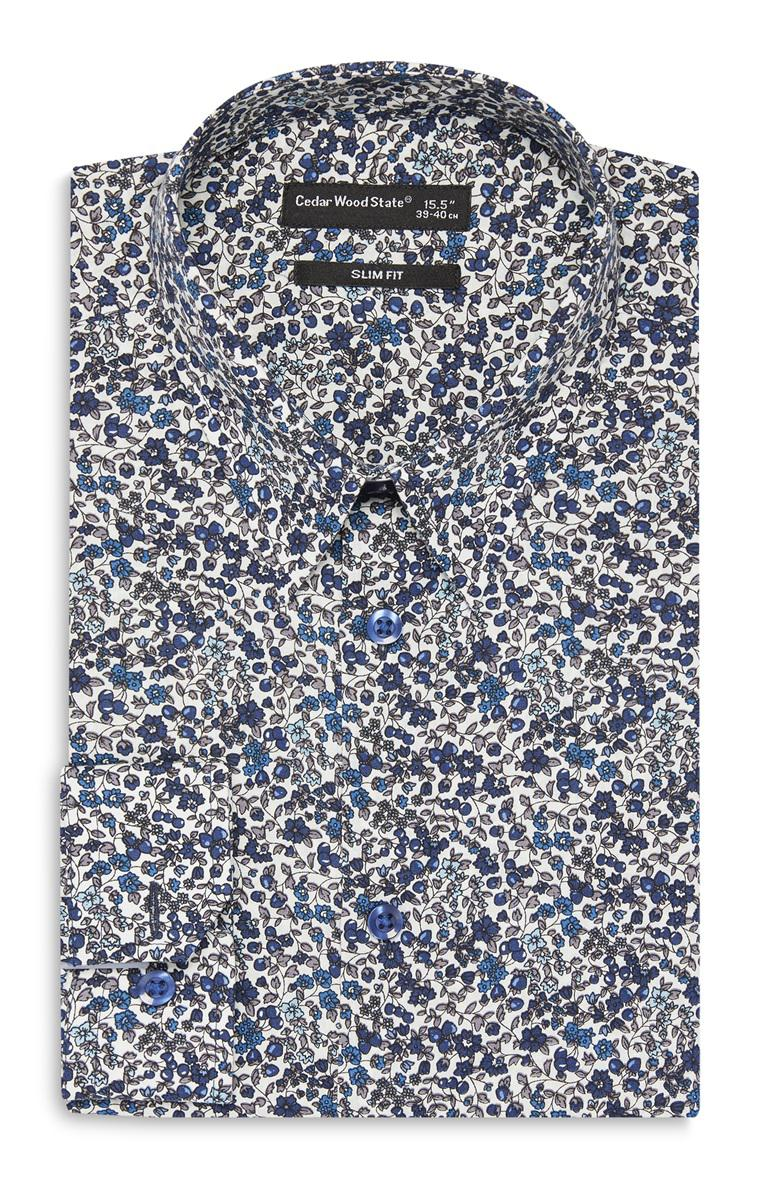teeshirt: (34, 52, 720, 1143)
